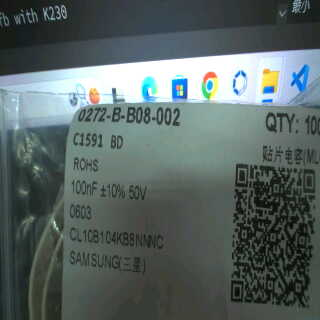100nF: (69, 178, 101, 202)
